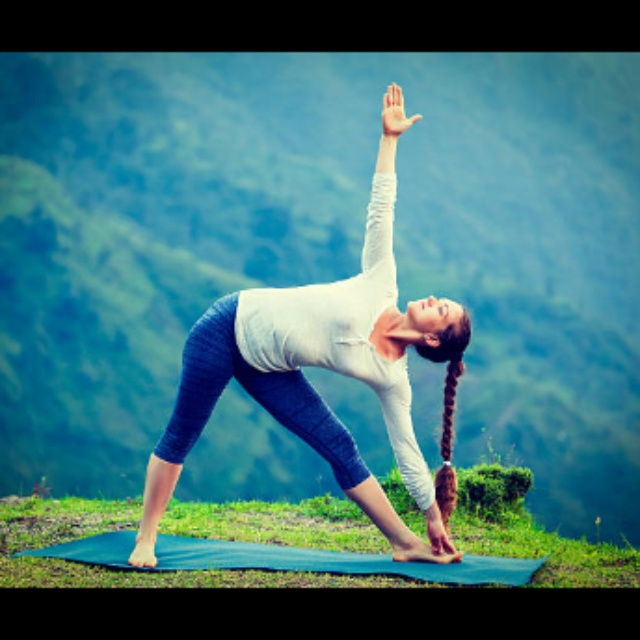Triangle_Pose: (110, 75, 475, 574)
